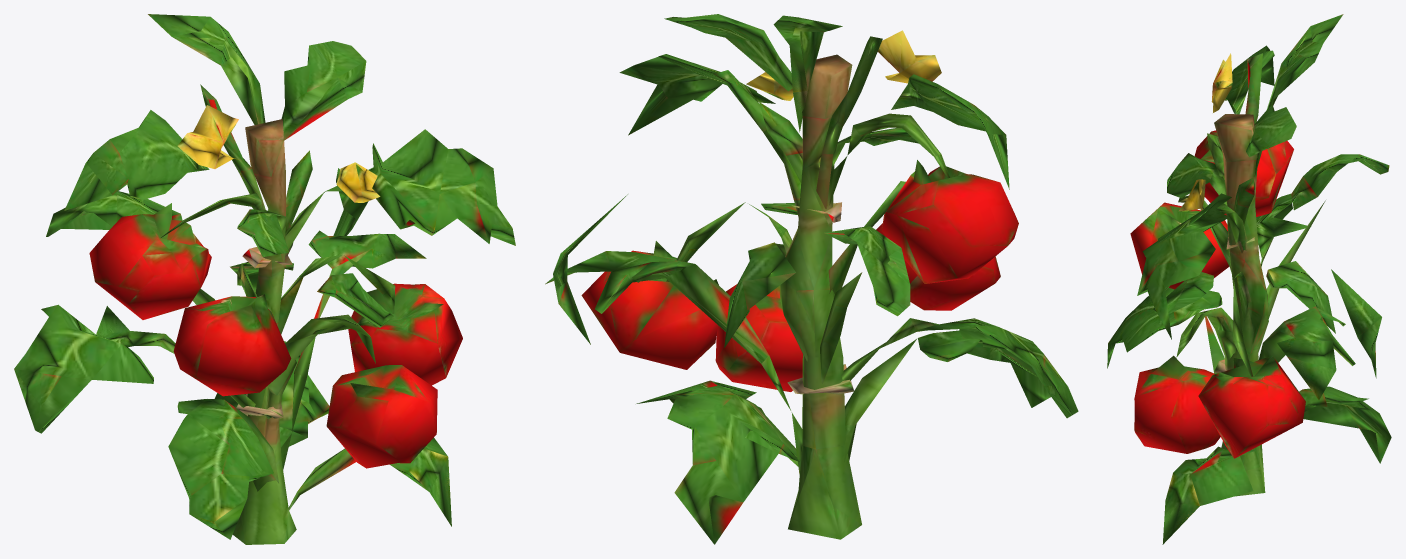
File: crop_tomato.glb
3 views of the same model, side by side, from view 1: azimuth 30°, elevation 25°; view 2: azimuth 150°, elevation 25°; view 3: azimuth 270°, elevation 25° (orthographic). The views are drawn at different scales.
Bounding box in the file's own units: 0.9282 × 0.9929 × 0.5765.
1 material, 1 textured.
